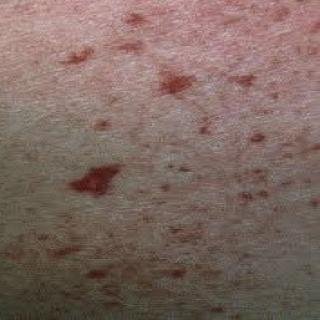urticaria: (92, 143, 119, 189)
